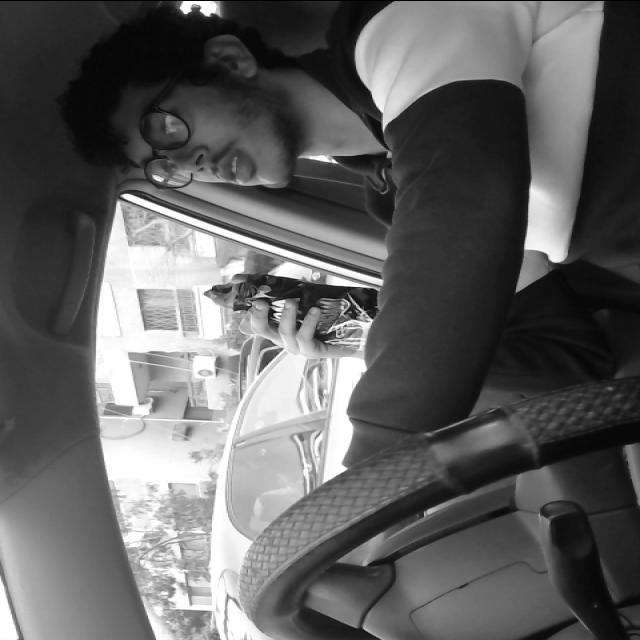eating: (204, 264, 406, 346)
